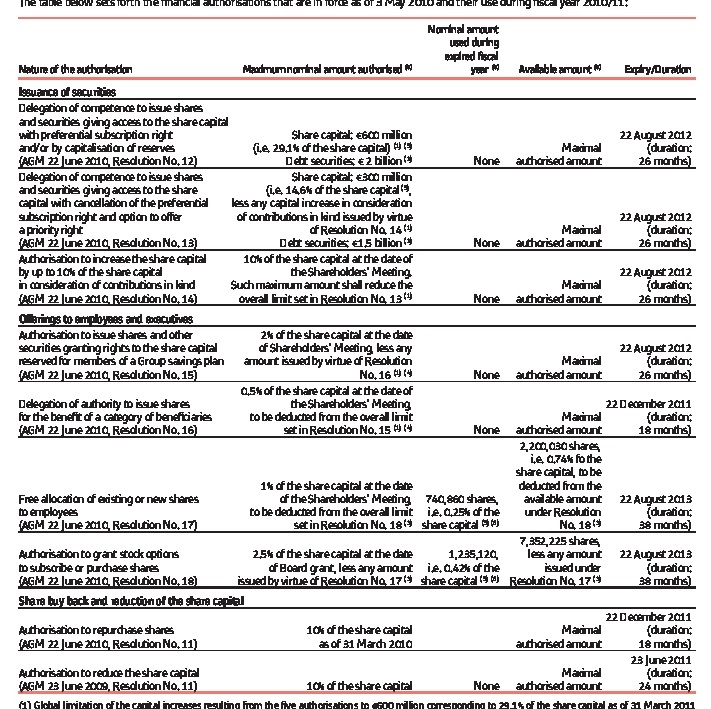table: (0, 0, 711, 709)
